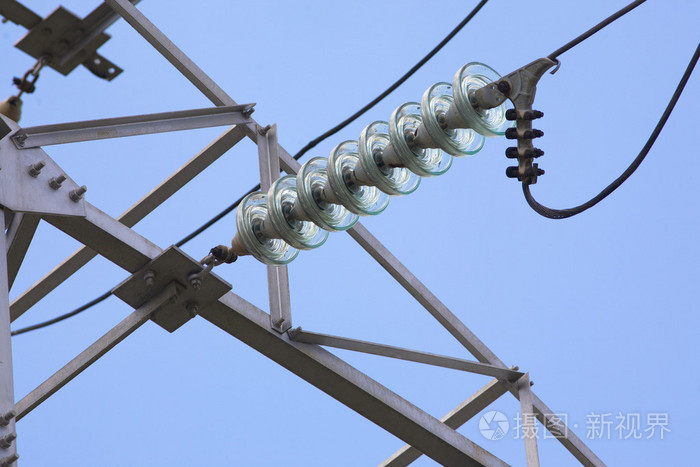insulator: (239, 61, 511, 265)
